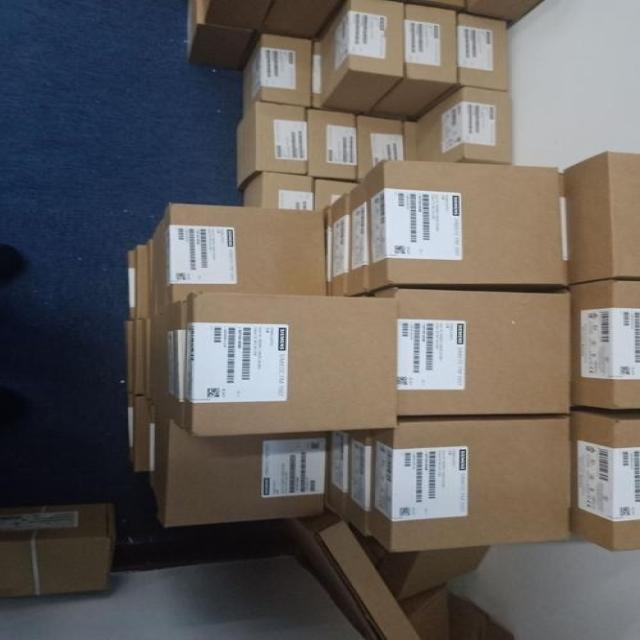box: (183, 293, 398, 437), (371, 417, 571, 554), (362, 159, 568, 291), (374, 289, 570, 416), (154, 407, 328, 530), (291, 505, 421, 640), (170, 202, 328, 304), (367, 3, 462, 121), (0, 503, 115, 600), (563, 150, 640, 283), (571, 413, 639, 551), (320, 1, 404, 112), (570, 278, 640, 411), (413, 86, 513, 164), (234, 102, 308, 190), (241, 33, 314, 117), (379, 545, 490, 598), (184, 0, 265, 67), (148, 300, 186, 431), (457, 12, 512, 92), (355, 112, 417, 180), (308, 108, 357, 182), (347, 177, 376, 294), (396, 581, 452, 640), (150, 203, 177, 317), (346, 431, 375, 535), (244, 172, 315, 208), (127, 393, 156, 472), (195, 1, 273, 29), (325, 431, 349, 518), (124, 318, 150, 395), (329, 191, 348, 294), (462, 0, 544, 21), (129, 244, 151, 319), (314, 178, 358, 210), (311, 37, 320, 107), (412, 1, 465, 12)
